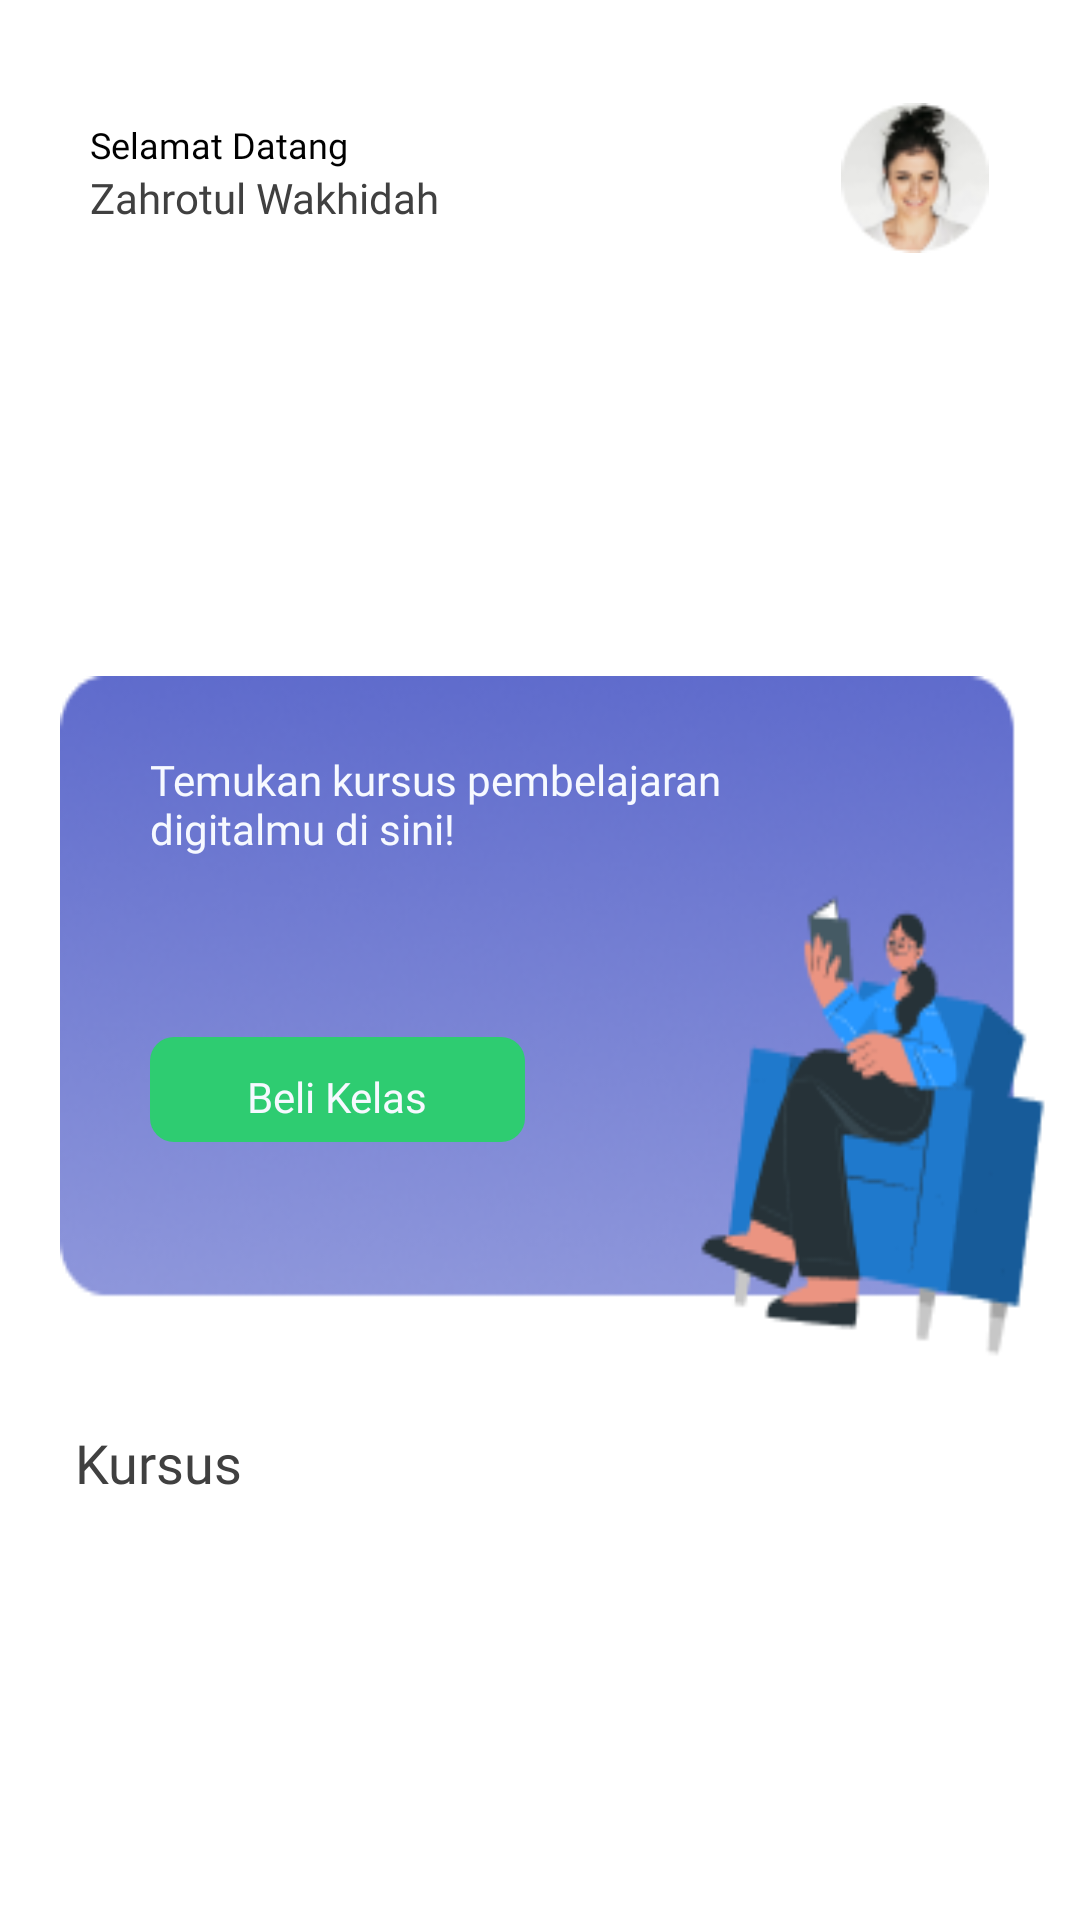

Where to tap for icons on this 1080w x 1920h app screen, as (x,y):
profil: (911,178)
